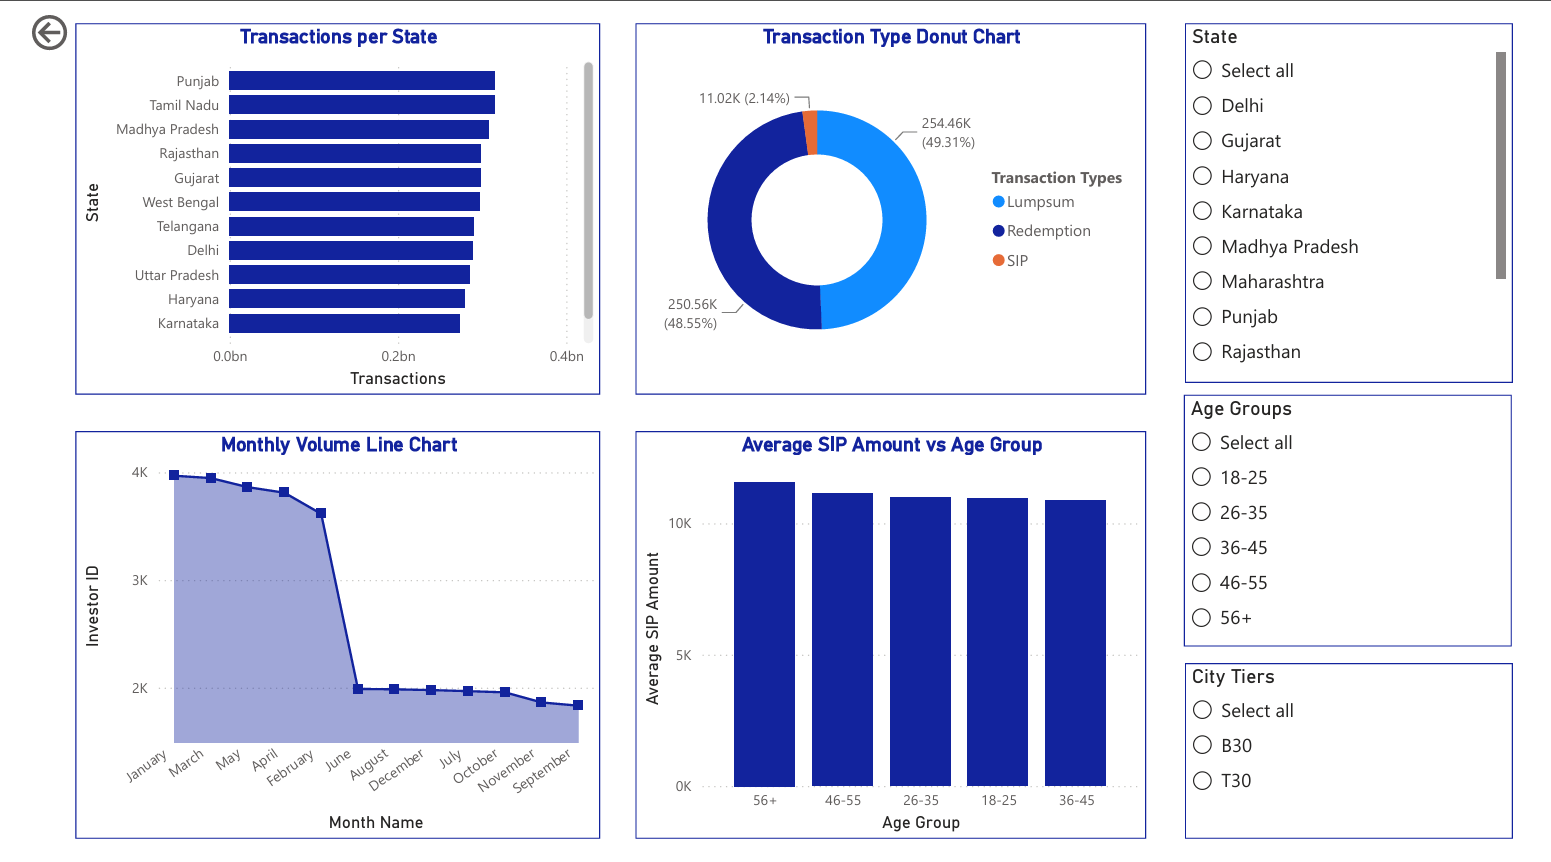

The page's visual inventory and layout, read from the dashboard file:
{"tool":"powerbi","page":{"name":"Investor Analytics","canvas":[1280,720],"ordinal":2},"visuals":[{"type":"barChart","title":"Transactions per State","fields":{"Category":["fact_transactions_pbi.state"],"Y":["Sum(fact_transactions_pbi.amount_inr)"]},"box":[41.6,12.2,448.8,316.7],"z":0},{"type":"donutChart","title":"Transaction Type Donut Chart","fields":{"Category":["fact_transactions_pbi.transaction_type"],"Y":["Avg(fact_transactions_pbi.amount_inr)"]},"box":[519.7,12.2,436.6,316.7],"z":1000},{"type":"columnChart","title":"Average SIP Amount vs Age Group ","fields":{"Category":["fact_transactions_pbi.age_group"],"Y":["Avg(fact_transactions_pbi.amount_inr)"]},"box":[519.7,359.5,436.6,348.5],"z":2000},{"type":"listSlicer","fields":{"Values":["fact_transactions_pbi.state"]},"box":[989.3,12.2,280,306.9],"z":3000},{"type":"listSlicer","fields":{"Values":["fact_transactions_pbi.age_group"]},"box":[988,328.9,280,215.2],"z":4000},{"type":"listSlicer","fields":{"Values":["fact_transactions_pbi.city_tier"]},"box":[989.3,557.6,280,150.4],"z":5000},{"type":"lineChart","title":"Monthly Volume Line Chart","fields":{"Category":["dim_date_pbi.month_name"],"Y":["CountNonNull(fact_transactions_pbi.investor_id)"]},"box":[41.6,359.5,448.8,348.5],"z":6000},{"type":"actionButton","box":[0,0,100,40],"z":7000}]}

Visuals, with their boxes in screenshot pixels (x1, y1, x2, y2), scaled from the page's 1280x720 canvas onto the 1551x862 screenshot:
"Transactions per State" barChart: bbox=[50, 15, 594, 394]
"Transaction Type Donut Chart" donutChart: bbox=[630, 15, 1159, 394]
"Average SIP Amount vs Age Group " columnChart: bbox=[630, 430, 1159, 848]
listSlicer - fact_transactions_pbi.state: bbox=[1199, 15, 1538, 382]
listSlicer - fact_transactions_pbi.age_group: bbox=[1197, 394, 1536, 651]
listSlicer - fact_transactions_pbi.city_tier: bbox=[1199, 668, 1538, 848]
"Monthly Volume Line Chart" lineChart: bbox=[50, 430, 594, 848]
actionButton: bbox=[0, 0, 121, 48]
